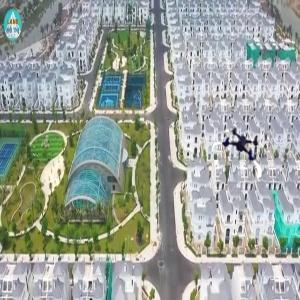drone: (211, 121, 269, 179)
